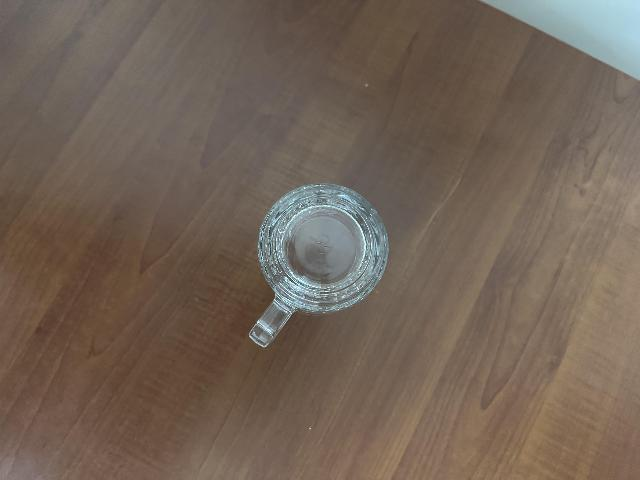Cam: (243, 183, 392, 344)
